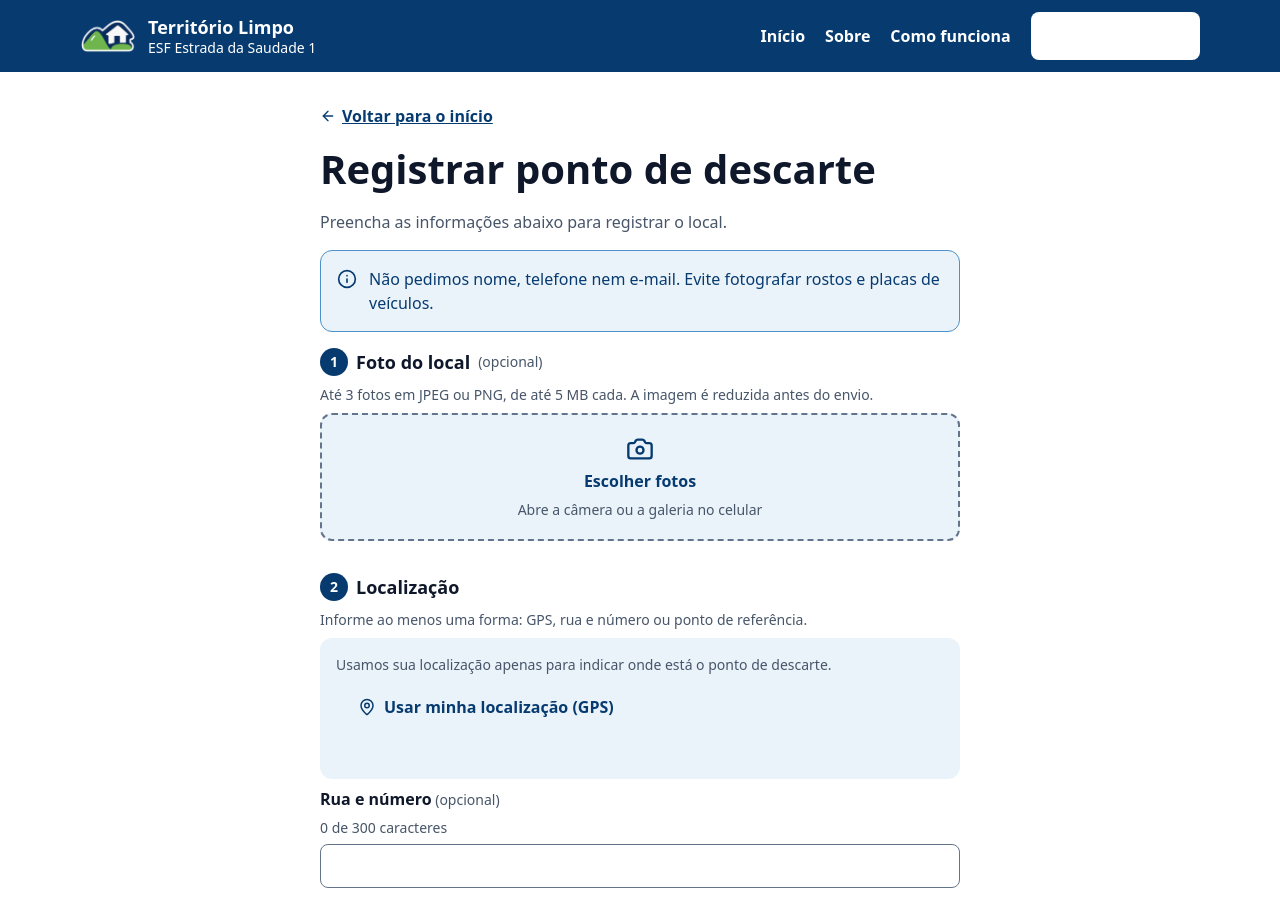
Test case: Registrar — validação no cliente › anuncia a localização obtida pelo GPS e permite removê-la
Click the button "Usar minha localização (GPS)".
click(486, 707)  # box x1=336 y1=683 x2=636 y2=731
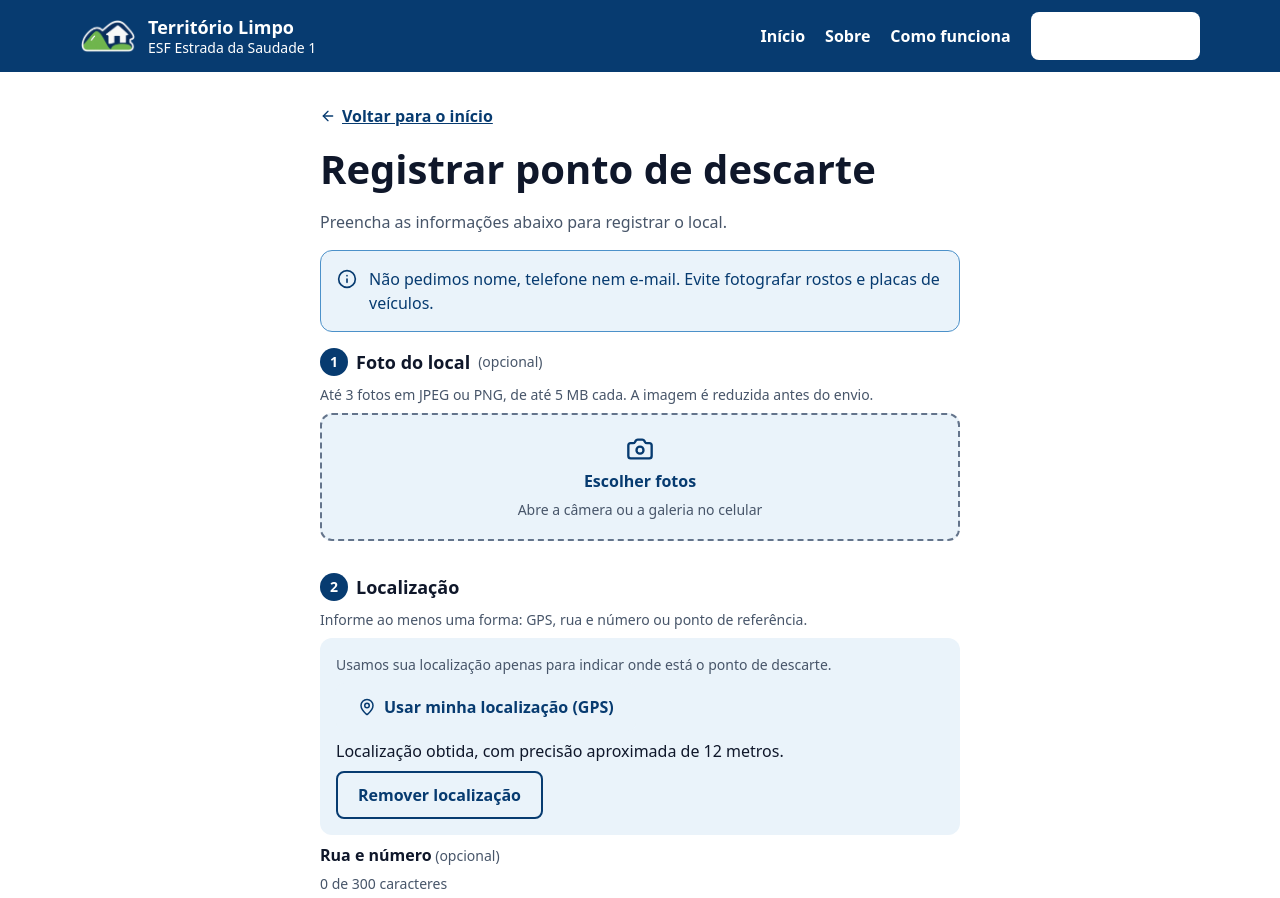
Expected: the text "Localização obtida, com precisão aproximada de 12 metros." is shown, x1=336 y1=739 x2=784 y2=763
Click the button "Remover localização".
click(440, 795)  # box x1=336 y1=771 x2=543 y2=819
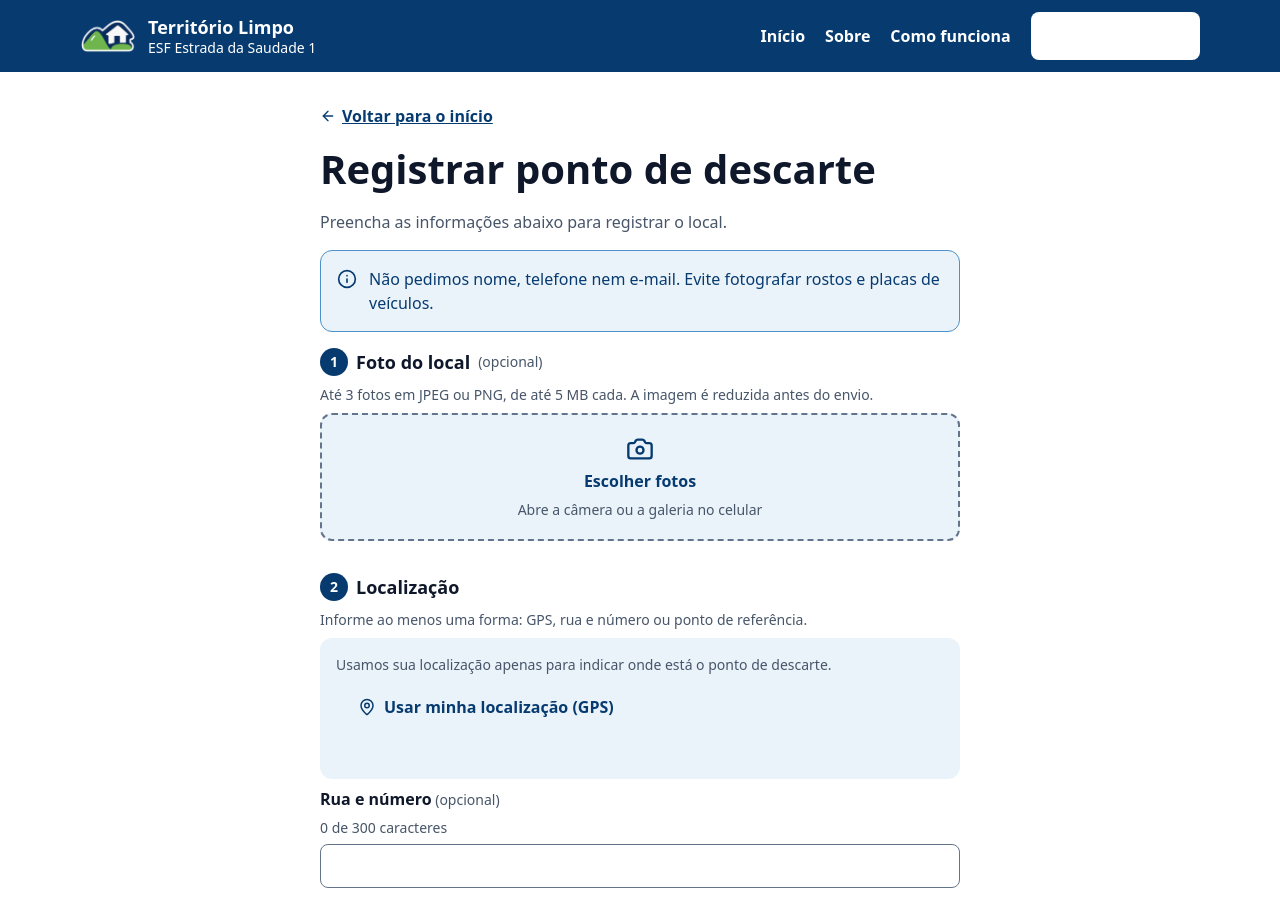
Expected: the text "Localização obtida" is gone
